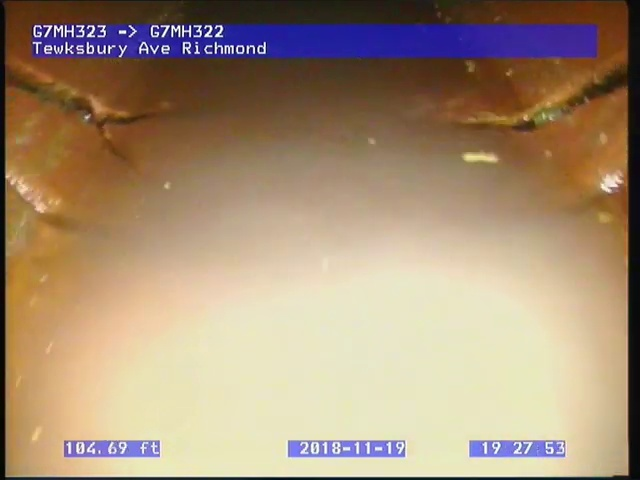crack: (4, 56, 178, 174), (469, 61, 626, 135)
